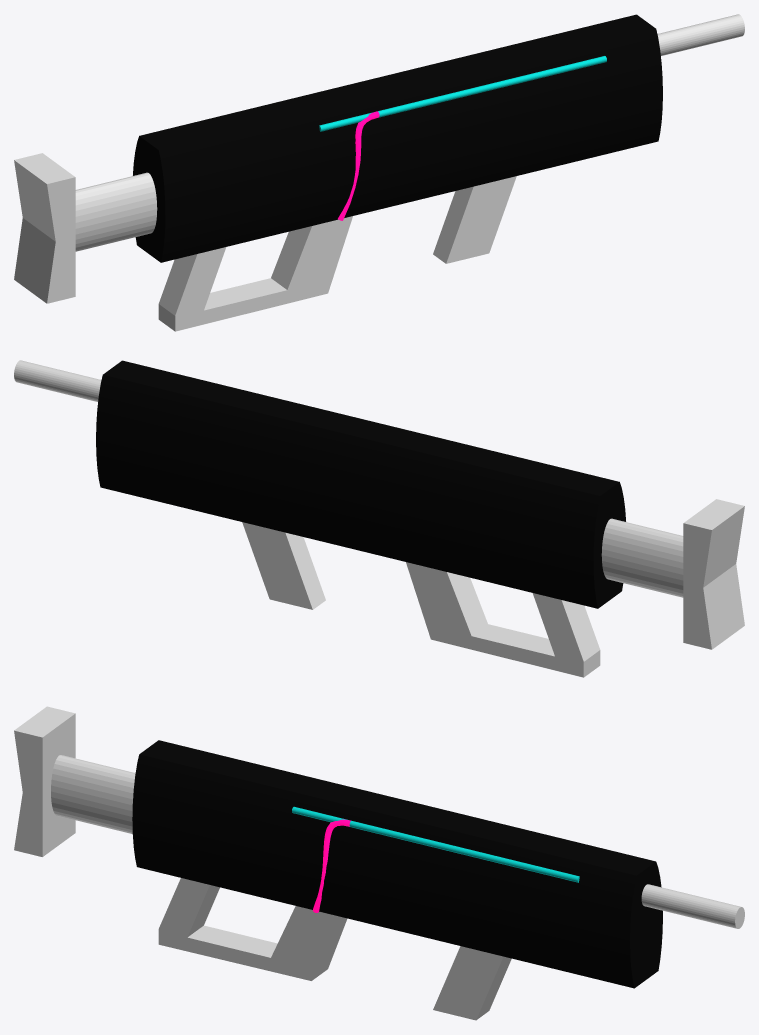
Rendered from heavy assault rifle.glb.
3 renders of one model, top to bottom at view 1: azimuth 30°, elevation 25°; view 2: azimuth 150°, elevation 25°; view 3: azimuth 330°, elevation 25°, orthographic.
Visible parts, largest first — view 1: body, grip, stock, stock stick, handle, pretty tube, barrel, BézierCurve; view 2: body, grip, stock, stock stick, handle, barrel; view 3: body, grip, stock, stock stick, handle, barrel, pretty tube, BézierCurve.
Boxes of the visible parts, x1,y1,x2,y2 form: body: (133, 14, 662, 262); grip: (158, 216, 352, 331); stock: (14, 153, 75, 303); stock stick: (75, 172, 157, 251); handle: (433, 176, 516, 263); pretty tube: (319, 56, 606, 131); barrel: (657, 14, 744, 55); BézierCurve: (338, 111, 379, 220); body: (96, 360, 625, 608); grip: (406, 562, 600, 677); stock: (683, 499, 744, 649); stock stick: (601, 518, 683, 597); handle: (242, 522, 325, 609); barrel: (14, 360, 101, 401); body: (132, 740, 662, 988); grip: (158, 878, 347, 980); stock: (14, 706, 75, 856); stock stick: (51, 755, 135, 833); handle: (433, 946, 511, 1020); barrel: (641, 884, 744, 928); pretty tube: (292, 806, 579, 882); BézierCurve: (313, 819, 350, 912).
Bounding box in the file's own units: 1.24 × 0.3125 × 0.1019.
